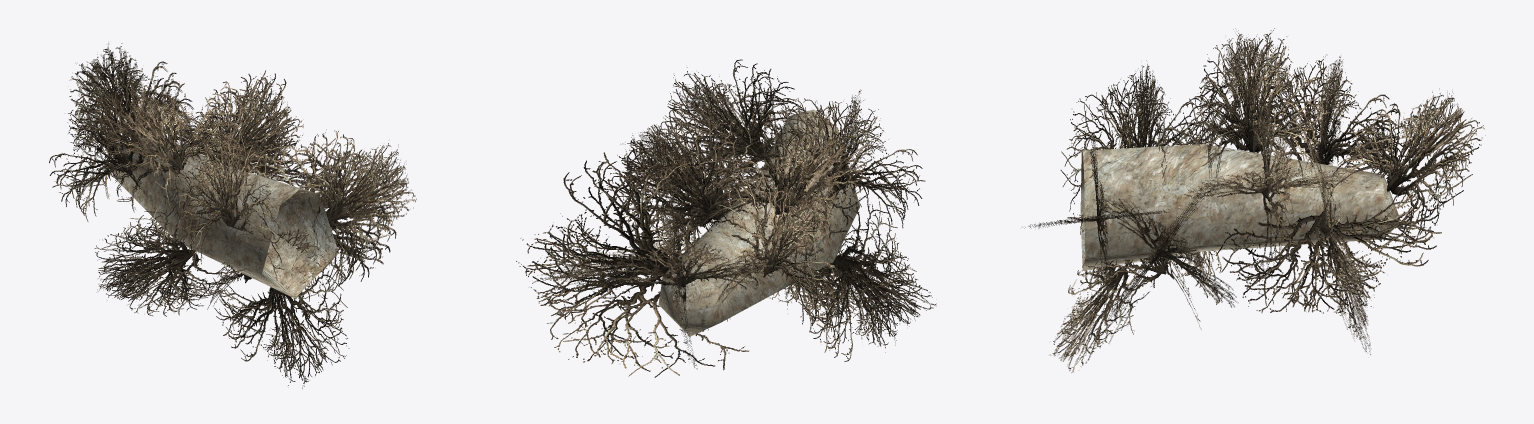
Rendered from poi_all_lair_bramble_light_large_l3.fbx.
3 renders of one model, left to right at view 1: azimuth 30°, elevation 25°; view 2: azimuth 150°, elevation 25°; view 3: azimuth 270°, elevation 25°, orthographic. The views are drawn at different scales.
Parts seen in each view (by area): view 1: mesh_node; view 2: mesh_node; view 3: mesh_node.
Part boxes in pixels (box(x1,y1,x2,y2)): mesh_node: box(49, 43, 416, 388); mesh_node: box(516, 59, 936, 377); mesh_node: box(1022, 28, 1485, 372).
Size of the model in its own units: 5.89 by 5.05 by 7.14.
